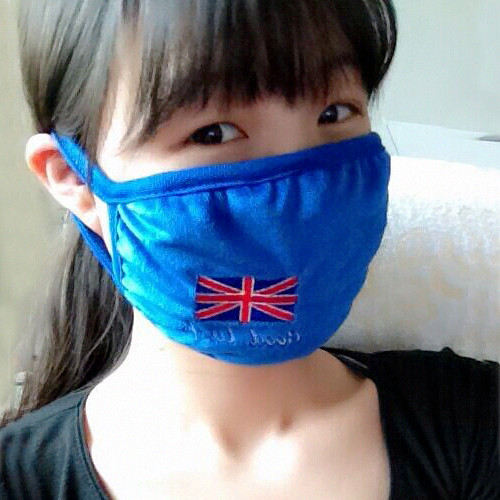face_mask: (105, 42, 390, 368)
